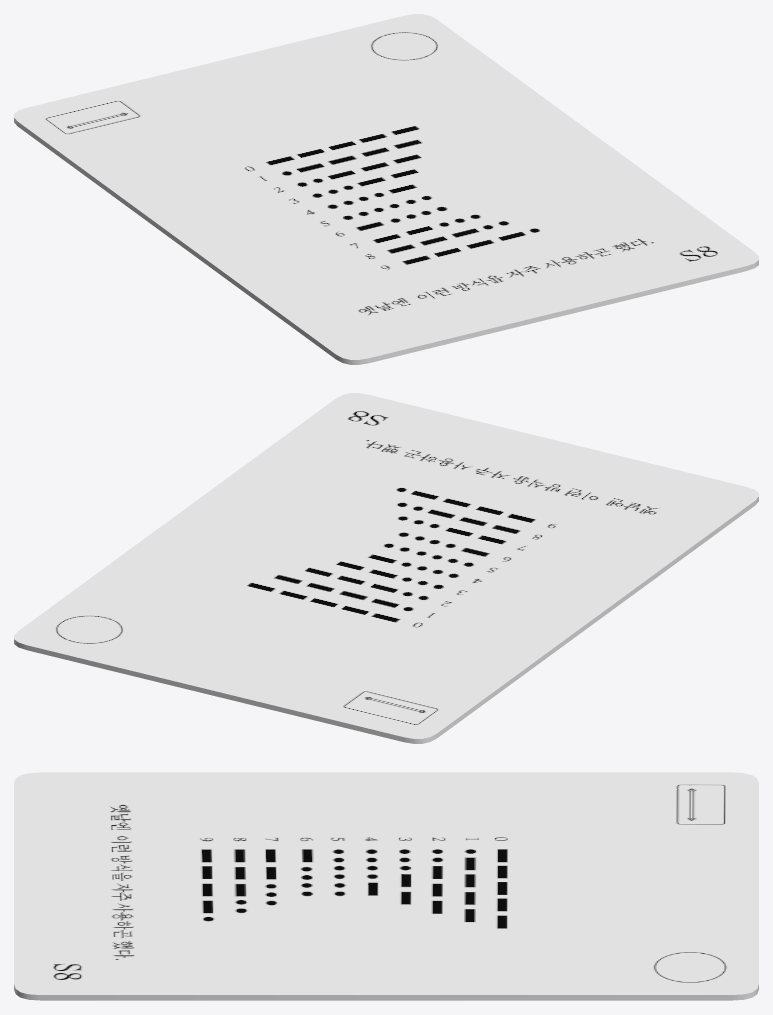
The model's file is MosHint.fbx.
The picture shows the model from 3 angles, top to bottom: view 1: azimuth 30°, elevation 25°; view 2: azimuth 150°, elevation 25°; view 3: azimuth 270°, elevation 25°; orthographic projection. The views are drawn at different scales.
Visible parts, largest first — view 1: Object004; view 2: Object004; view 3: Object004.
Boxes of the visible parts, x1,y1,x2,y2 form: Object004: (14, 14, 758, 364); Object004: (14, 393, 758, 743); Object004: (14, 772, 758, 1000).
Bounding box in the file's own units: 87.49 × 1 × 124.
